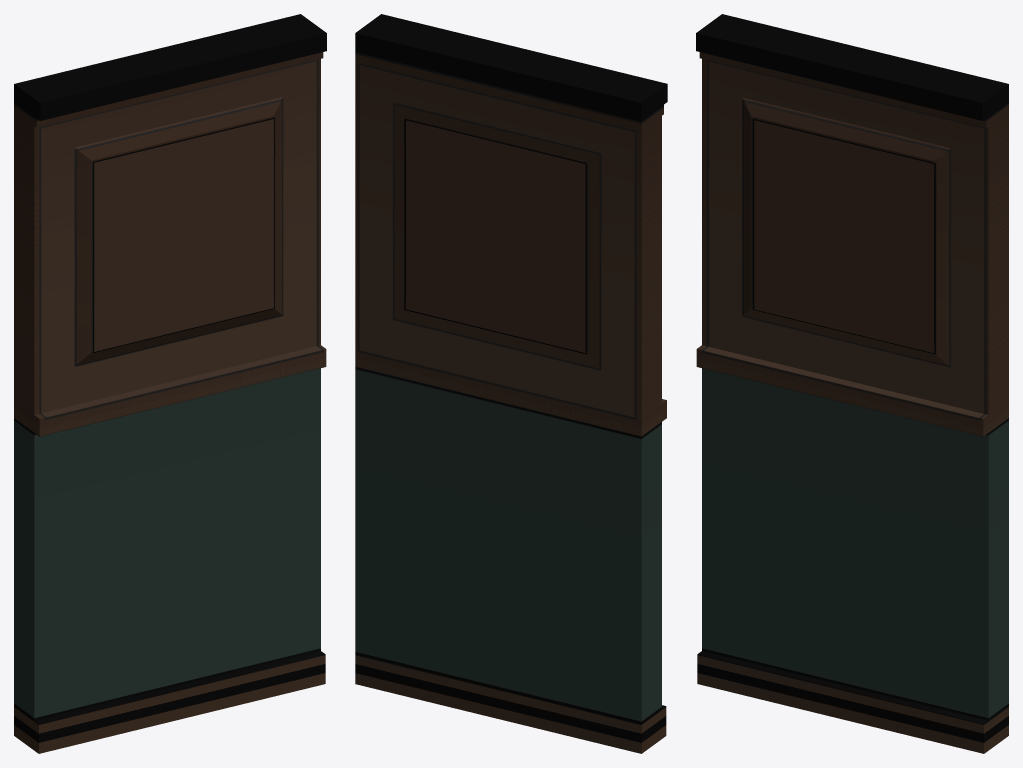
Rendered from waal.glb.
3 renders of one model, left to right at view 1: azimuth 30°, elevation 25°; view 2: azimuth 150°, elevation 25°; view 3: azimuth 330°, elevation 25°, orthographic.
Parts seen in each view (by area): view 1: wall.002; view 2: wall.002; view 3: wall.002.
Boxes of the visible parts, x1,y1,x2,y2 form: wall.002: (14,14,326,753); wall.002: (355,14,667,753); wall.002: (696,14,1008,753).
Size of the model in its own units: 0.5093 by 1.11 by 0.0803.
1 material, 1 textured.
